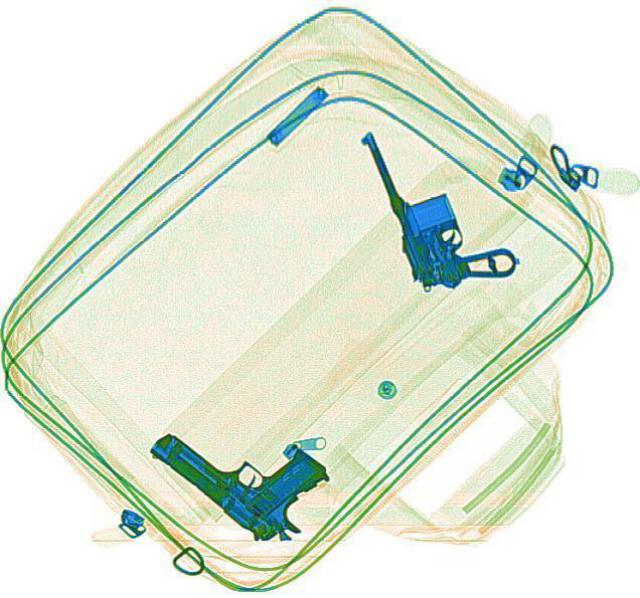Gun: (139, 383, 345, 552), (358, 104, 518, 297)
